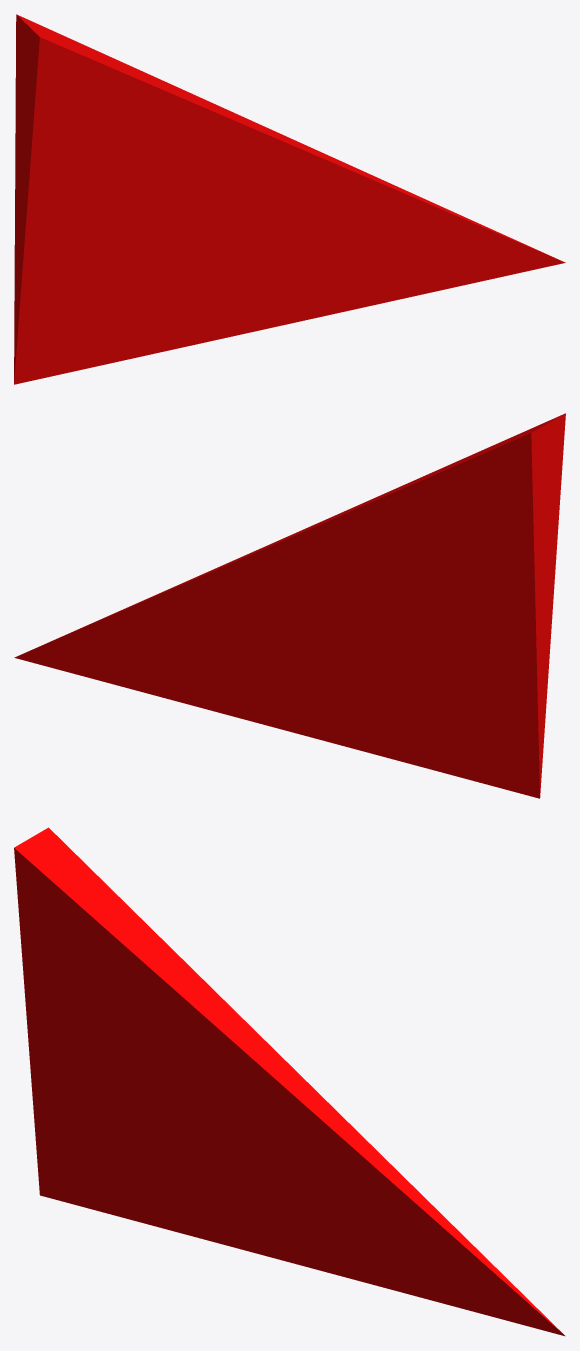
Rendered from torso_1_accelerometer_1.glb.
3 views of the same model, one above another, from view 1: azimuth 30°, elevation 25°; view 2: azimuth 150°, elevation 25°; view 3: azimuth 330°, elevation 25° (orthographic).
Parts seen in each view (by area): view 1: torso_1_accelerometer_1.obj; view 2: torso_1_accelerometer_1.obj; view 3: torso_1_accelerometer_1.obj.
Boxes of the visible parts, box(x1,y1,x2,y2) form: torso_1_accelerometer_1.obj: box(14, 14, 565, 384); torso_1_accelerometer_1.obj: box(14, 413, 565, 798); torso_1_accelerometer_1.obj: box(14, 827, 565, 1336).
Size of the model in its own units: 0.04 by 0.026 by 0.00375.
